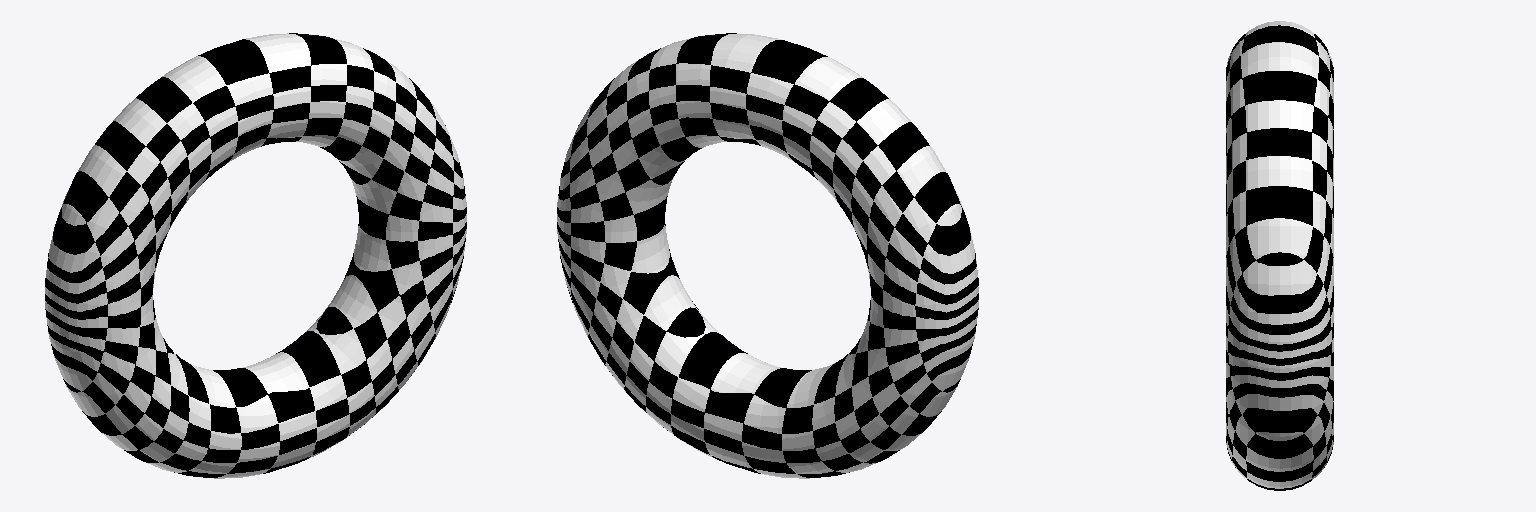
3 renders of one model, left to right at view 1: azimuth 30°, elevation 25°; view 2: azimuth 150°, elevation 25°; view 3: azimuth 270°, elevation 25°, orthographic.
Bounding box in the file's own units: 2.59 × 2.6 × 0.5967.
1 materials, 1 textured.